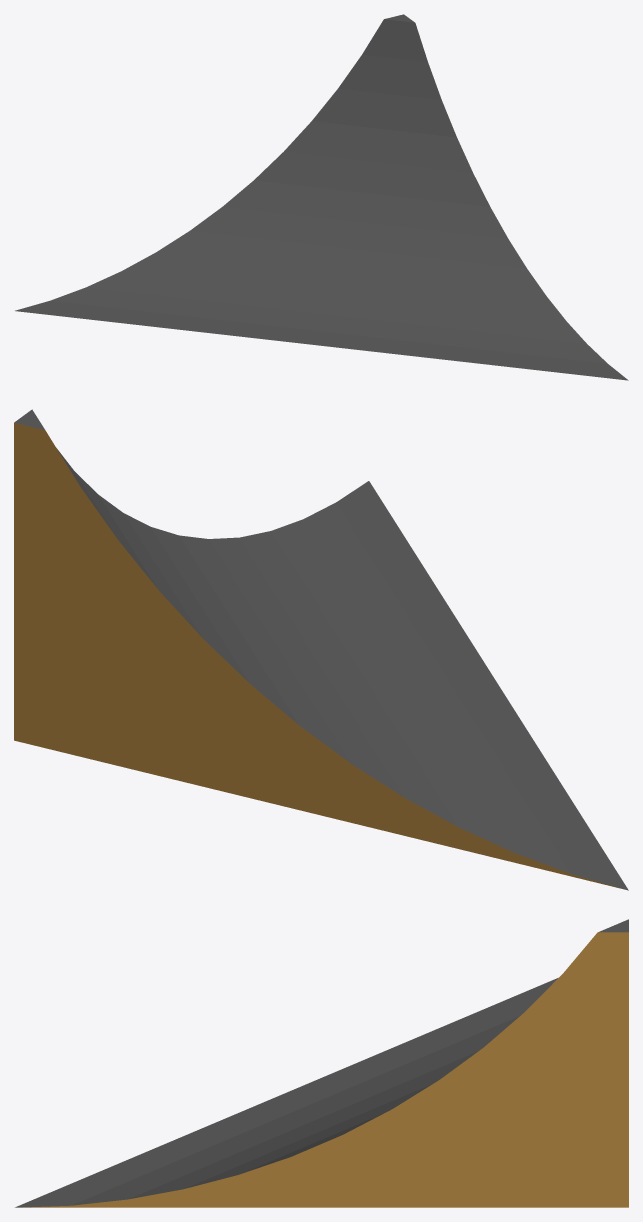
The model's file is Skate_Quarter_Pipe_Long_w_Back_Corner_01.FBX.
3 renders of one model, top to bottom at view 1: azimuth 30°, elevation 25°; view 2: azimuth 150°, elevation 25°; view 3: azimuth 270°, elevation 25°, orthographic. The views are drawn at different scales.
Visible parts, largest first — view 1: Skate_Quarter_Pipe_Long_w_Back_Corner_01; view 2: Skate_Quarter_Pipe_Long_w_Back_Corner_01; view 3: Skate_Quarter_Pipe_Long_w_Back_Corner_01.
Boxes of the visible parts, box(x1,y1,x2,y2) form: Skate_Quarter_Pipe_Long_w_Back_Corner_01: box(15, 14, 628, 380); Skate_Quarter_Pipe_Long_w_Back_Corner_01: box(14, 409, 628, 890); Skate_Quarter_Pipe_Long_w_Back_Corner_01: box(15, 919, 628, 1207).
Size of the model in its own units: 6000 by 2964 by 6000.
